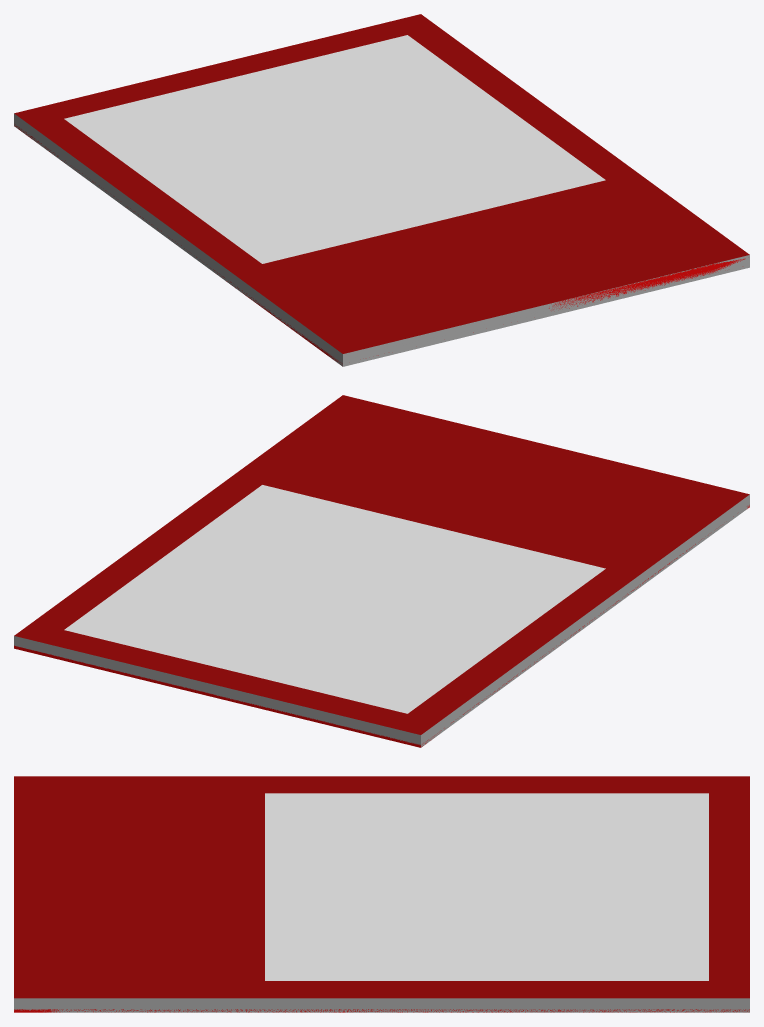
File: CardLowpolyBreak.fbx
The picture shows the model from 3 angles, top to bottom: view 1: azimuth 30°, elevation 25°; view 2: azimuth 150°, elevation 25°; view 3: azimuth 270°, elevation 25°; orthographic projection. The views are drawn at different scales.
Visible parts, largest first — view 1: Cardform_Split, FaceSection, CardPrototype_Textured; view 2: Cardform_Split, FaceSection, CardPrototype_Textured; view 3: Cardform_Split, FaceSection, CardPrototype_Textured.
Part boxes in pixels (<box>): Cardform_Split: <box>14,14,749,366</box>; FaceSection: <box>64,35,605,263</box>; CardPrototype_Textured: <box>14,124,745,363</box>; Cardform_Split: <box>14,395,749,747</box>; FaceSection: <box>64,485,605,713</box>; CardPrototype_Textured: <box>14,505,749,747</box>; Cardform_Split: <box>14,776,749,1012</box>; FaceSection: <box>265,793,708,980</box>; CardPrototype_Textured: <box>14,1009,749,1012</box>.
Size of the model in its own units: 1 by 0.0304 by 1.4.
